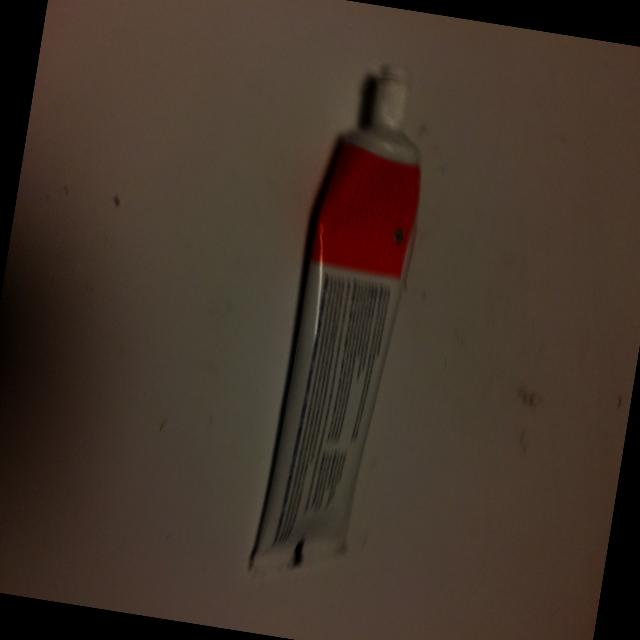Plastic: (205, 32, 450, 624)
